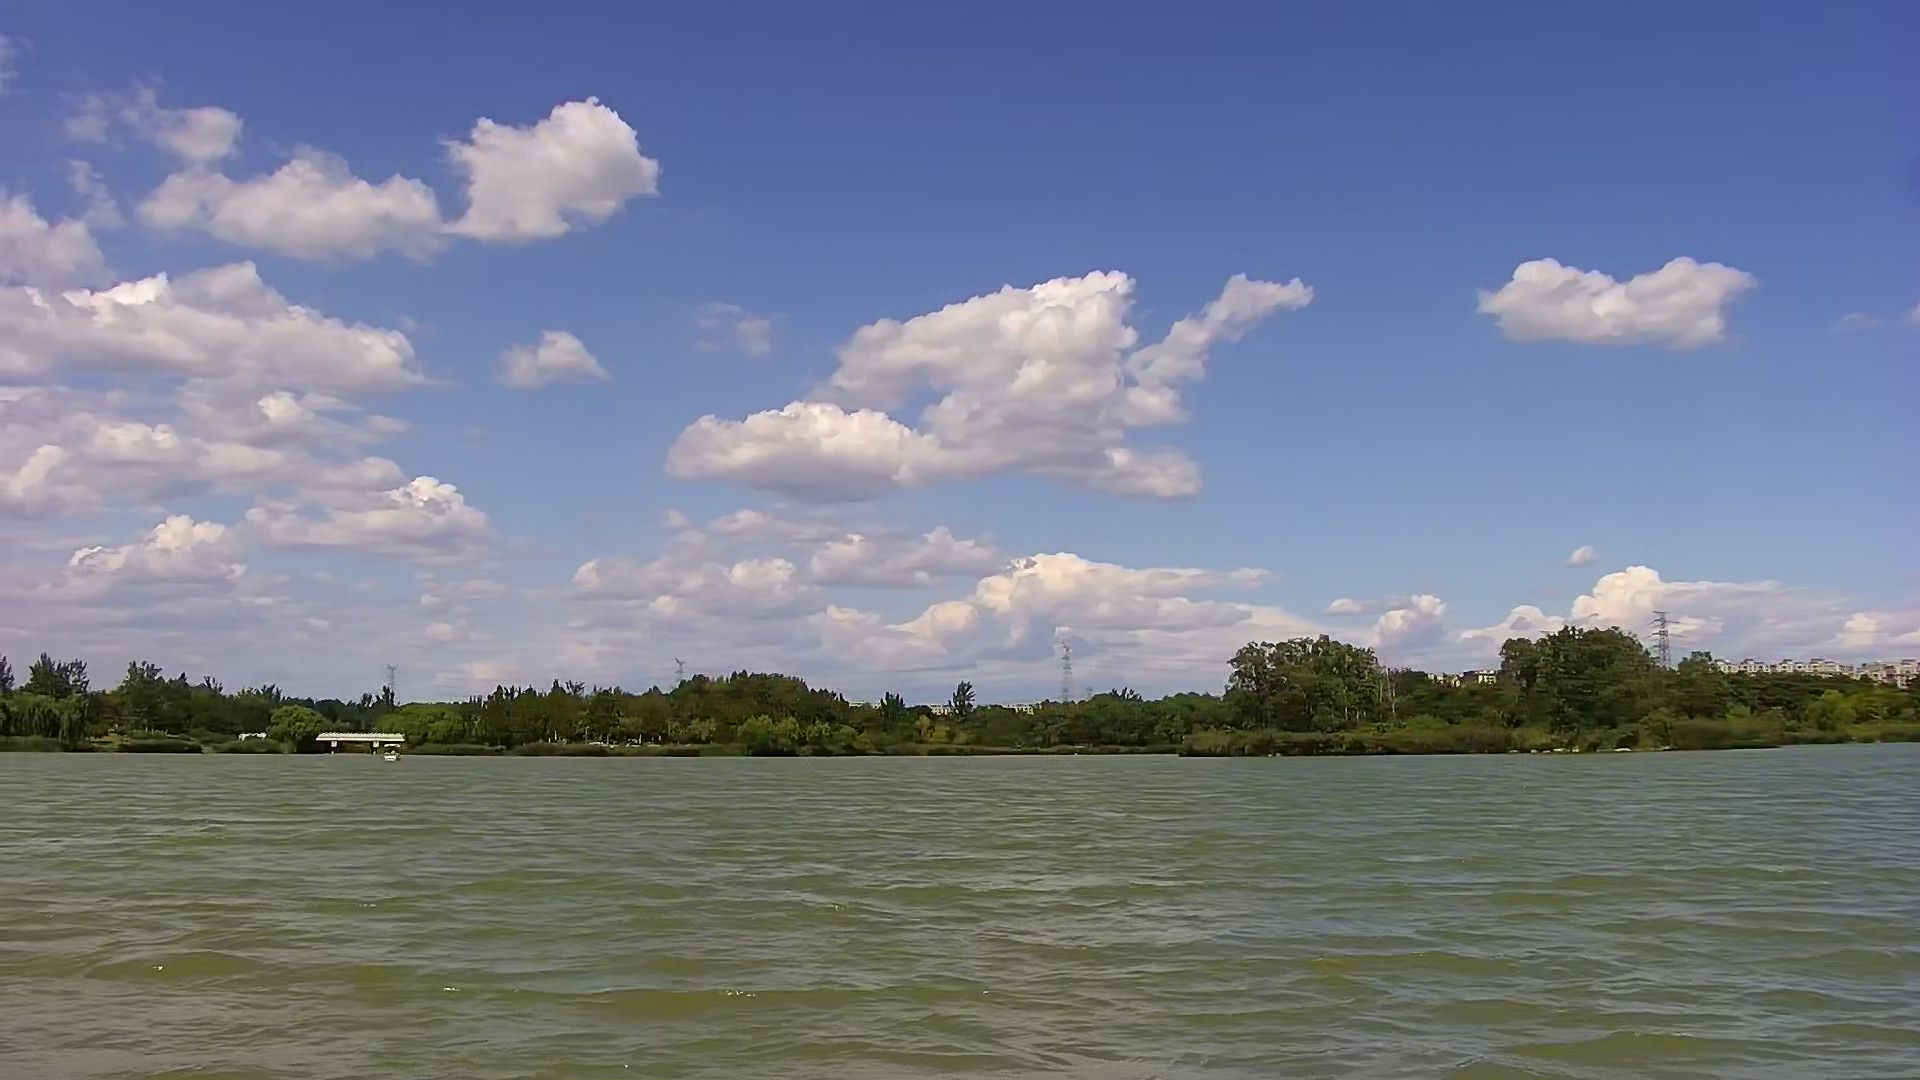bridge: (309, 720, 409, 756)
